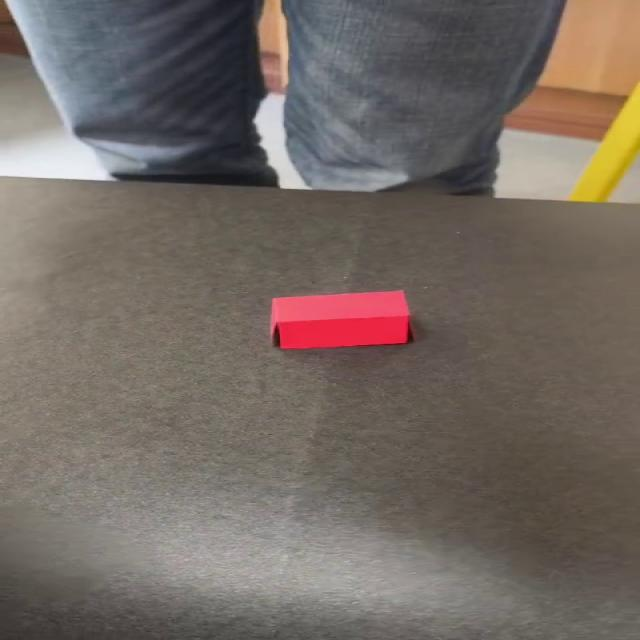red block: (268, 288, 412, 350)
